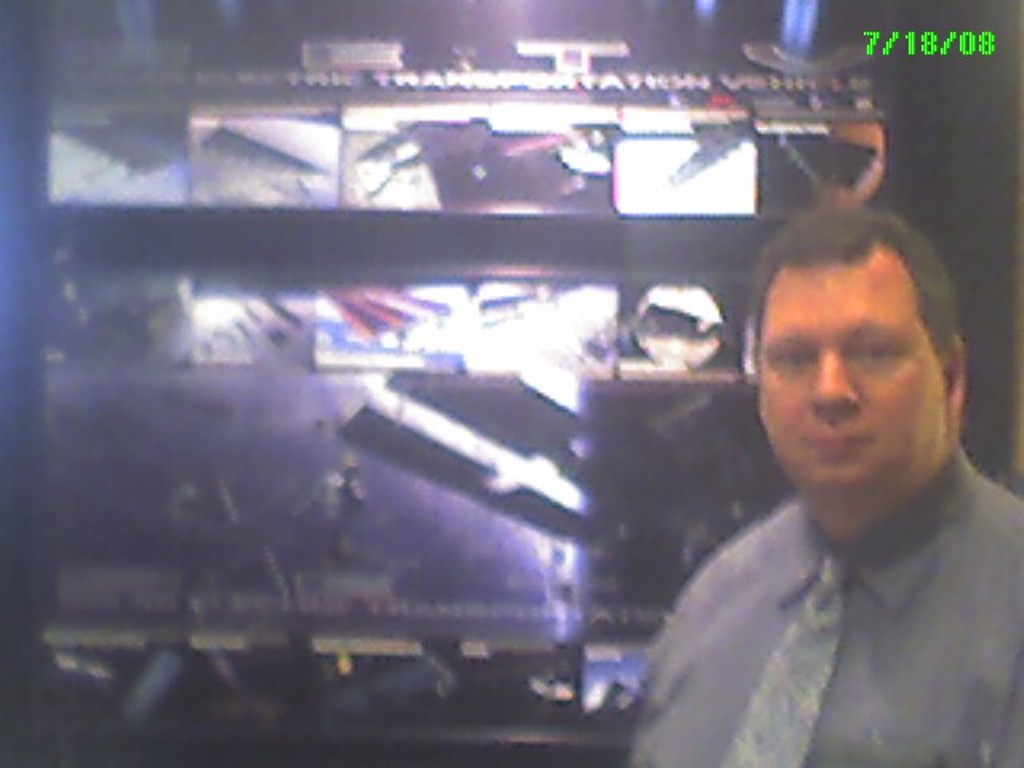Human-face: (758, 253, 949, 485)
